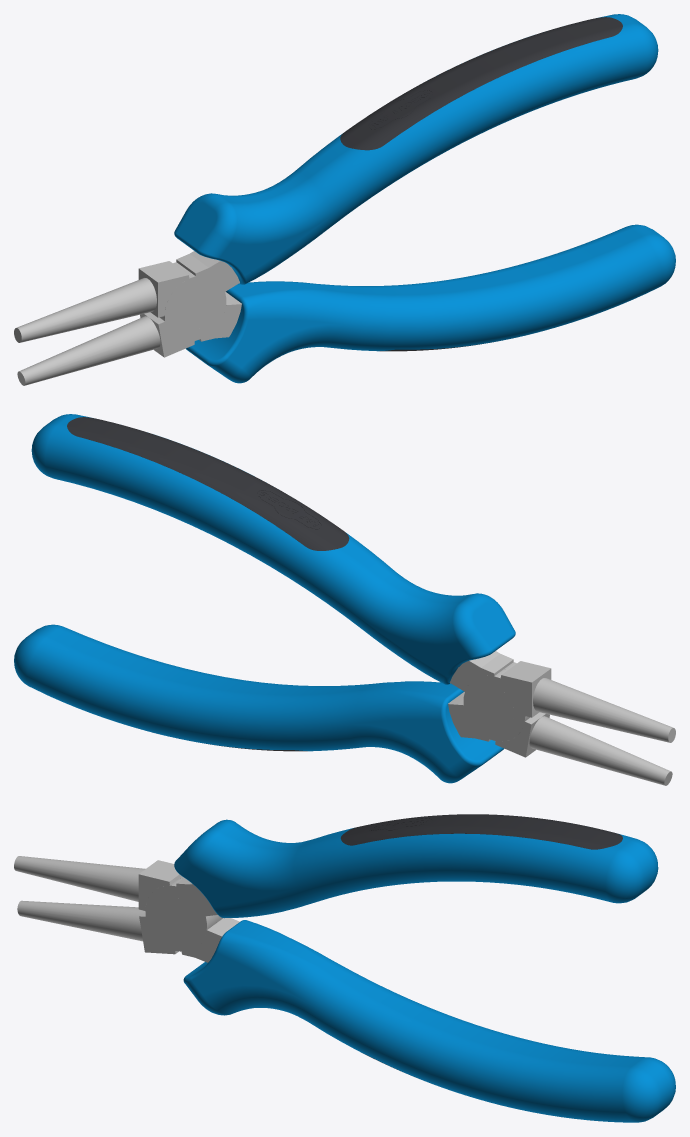
The picture shows the model from 3 angles, top to bottom: view 1: azimuth 30°, elevation 25°; view 2: azimuth 150°, elevation 25°; view 3: azimuth 330°, elevation 25°; orthographic projection.
Parts seen in each view (by area): view 1: currentmodel.wrl.cleaner.materialmerger.gles_1; view 2: currentmodel.wrl.cleaner.materialmerger.gles_1; view 3: currentmodel.wrl.cleaner.materialmerger.gles_1.
Part boxes in pixels (<box>): currentmodel.wrl.cleaner.materialmerger.gles_1: <box>14,14,675,385</box>; currentmodel.wrl.cleaner.materialmerger.gles_1: <box>14,414,675,785</box>; currentmodel.wrl.cleaner.materialmerger.gles_1: <box>14,814,675,1122</box>.
Size of the model in its own units: 1 by 0.4148 by 0.1109.
